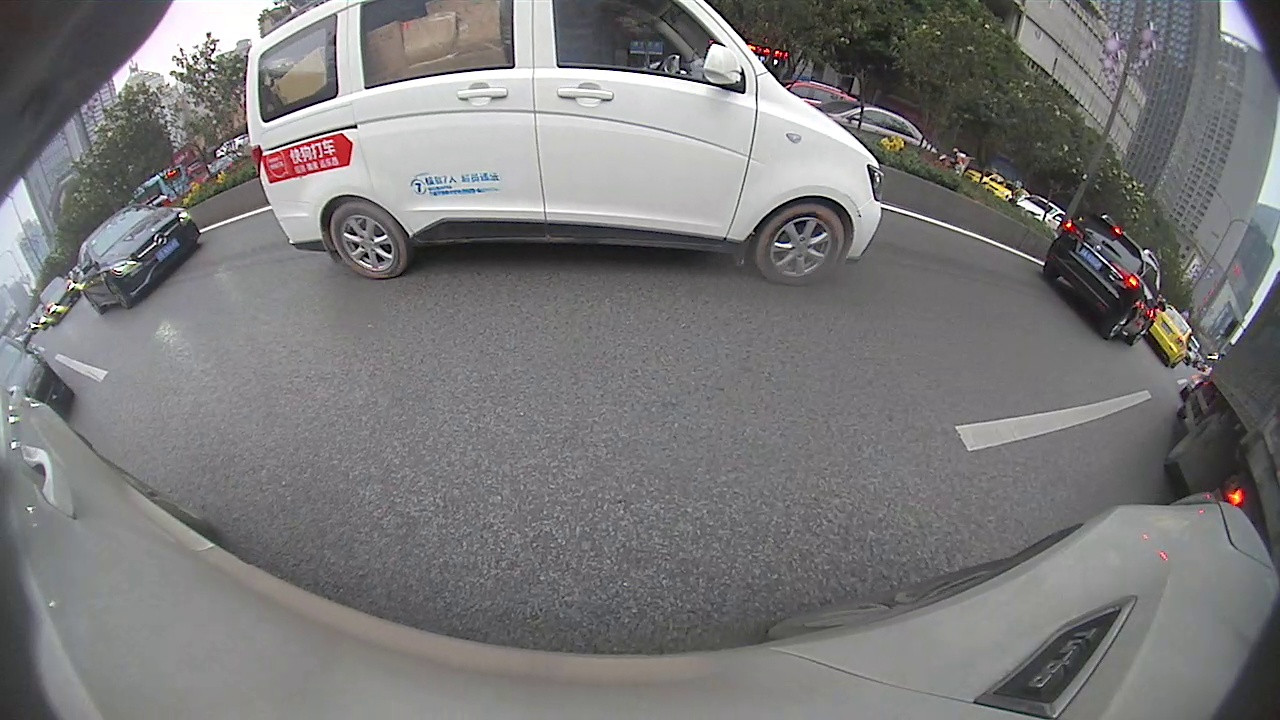car: (871, 167, 1056, 254), (1047, 223, 1196, 318), (1162, 294, 1278, 403), (772, 158, 848, 199), (833, 163, 879, 200), (718, 158, 764, 184), (609, 158, 640, 184)
front: (1184, 324, 1226, 375), (1036, 235, 1056, 262), (871, 193, 892, 218)
rear: (1129, 280, 1158, 316), (955, 213, 981, 243), (797, 178, 809, 194)
